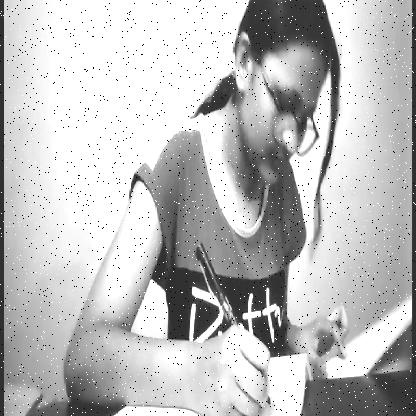Distracted: (221, 2, 343, 201)
